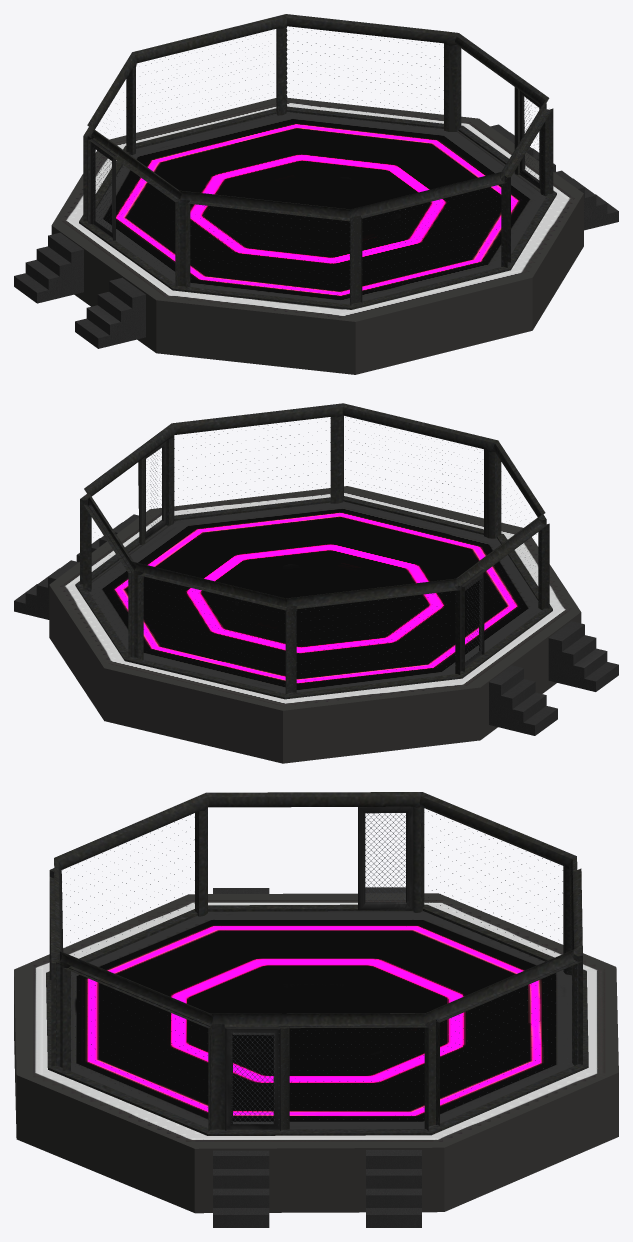
File: RingNew.fbx
The picture shows the model from 3 angles, top to bottom: view 1: azimuth 30°, elevation 25°; view 2: azimuth 150°, elevation 25°; view 3: azimuth 270°, elevation 25°; orthographic projection. The views are drawn at different scales.
Parts seen in each view (by area): view 1: polySurface8, polySurface443, polySurface440, polySurface444, polySurface13, polySurface437, polySurface441, polySurface359, polySurface206, polySurface404, polySurface397, polySurface316 (+5 smaller); view 2: polySurface8, polySurface13, polySurface442, polySurface443, polySurface438, polySurface441, polySurface437, polySurface404, polySurface316, polySurface436, polySurface301, polySurface206 (+5 smaller); view 3: polySurface8, polySurface13, polySurface443, polySurface440, polySurface438, polySurface442, polySurface444, polySurface436, polySurface397, polySurface359, polySurface206, polySurface268 (+4 smaller).
Boxes of the visible parts, x1=… form: polySurface8: x1=14, y1=97, x2=618, y2=374; polySurface443: x1=87, y1=128, x2=181, y2=262; polySurface440: x1=286, y1=14, x2=445, y2=128; polySurface444: x1=180, y1=191, x2=350, y2=303; polySurface13: x1=455, y1=33, x2=542, y2=188; polySurface437: x1=351, y1=172, x2=506, y2=304; polySurface441: x1=132, y1=16, x2=277, y2=145; polySurface359: x1=442, y1=31, x2=461, y2=131; polySurface206: x1=175, y1=190, x2=191, y2=288; polySurface404: x1=349, y1=207, x2=362, y2=305; polySurface397: x1=537, y1=93, x2=553, y2=195; polySurface316: x1=276, y1=14, x2=286, y2=115; polySurface8: x1=14, y1=486, x2=618, y2=763; polySurface13: x1=80, y1=428, x2=170, y2=544; polySurface442: x1=287, y1=578, x2=459, y2=684; polySurface443: x1=456, y1=513, x2=548, y2=671; polySurface438: x1=172, y1=404, x2=330, y2=511; polySurface441: x1=131, y1=564, x2=286, y2=684; polySurface437: x1=342, y1=403, x2=486, y2=521; polySurface404: x1=482, y1=438, x2=501, y2=538; polySurface316: x1=128, y1=562, x2=145, y2=659; polySurface436: x1=330, y1=403, x2=343, y2=503; polySurface301: x1=285, y1=597, x2=296, y2=694; polySurface206: x1=536, y1=508, x2=549, y2=609; polySurface8: x1=14, y1=887, x2=618, y2=1227; polySurface13: x1=224, y1=1013, x2=427, y2=1130; polySurface443: x1=206, y1=792, x2=413, y2=909; polySurface440: x1=427, y1=948, x2=582, y2=1118; polySurface438: x1=56, y1=955, x2=212, y2=1129; polySurface442: x1=419, y1=792, x2=567, y2=960; polySurface444: x1=50, y1=796, x2=200, y2=954; polySurface436: x1=51, y1=950, x2=73, y2=1070; polySurface397: x1=208, y1=1013, x2=225, y2=1131; polySurface359: x1=423, y1=1008, x2=439, y2=1130; polySurface206: x1=195, y1=793, x2=209, y2=916; polySurface268: x1=412, y1=792, x2=424, y2=912.
Size of the model in its own units: 879 by 243 by 729.
